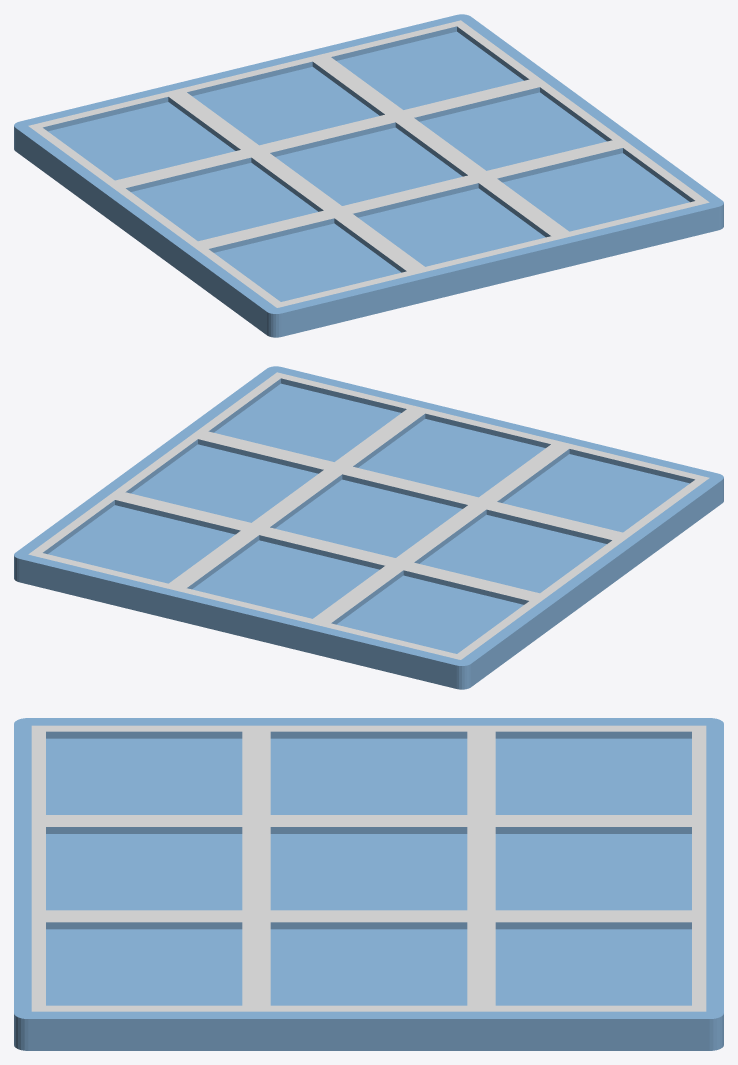
The model's file is Board.fbx.
3 renders of one model, top to bottom at view 1: azimuth 30°, elevation 25°; view 2: azimuth 150°, elevation 25°; view 3: azimuth 270°, elevation 25°, orthographic. The views are drawn at different scales.
Visible parts, largest first — view 1: Board; view 2: Board; view 3: Board.
Part boxes in pixels (box(x1,y1,x2,y2)): Board: box(14, 14, 723, 337); Board: box(14, 366, 723, 689); Board: box(14, 718, 723, 1050).
Size of the model in its own units: 137 by 6.77 by 137.
